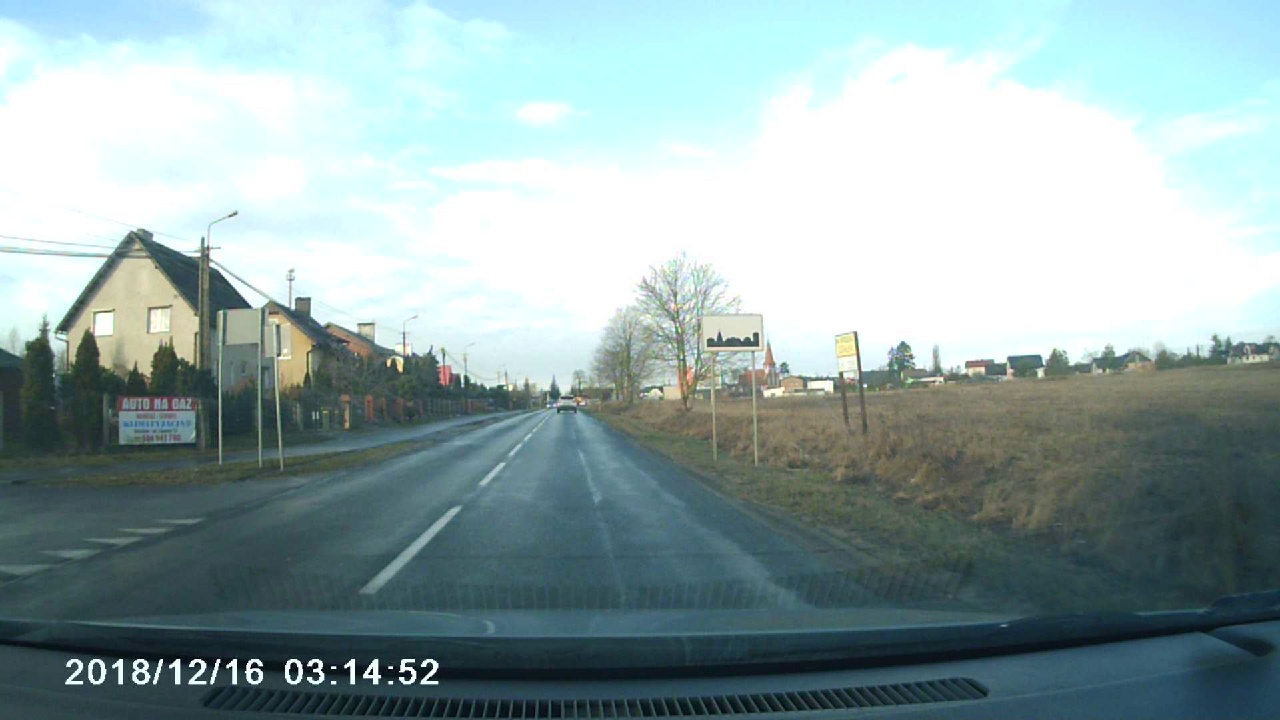D42: (700, 314, 763, 352)
